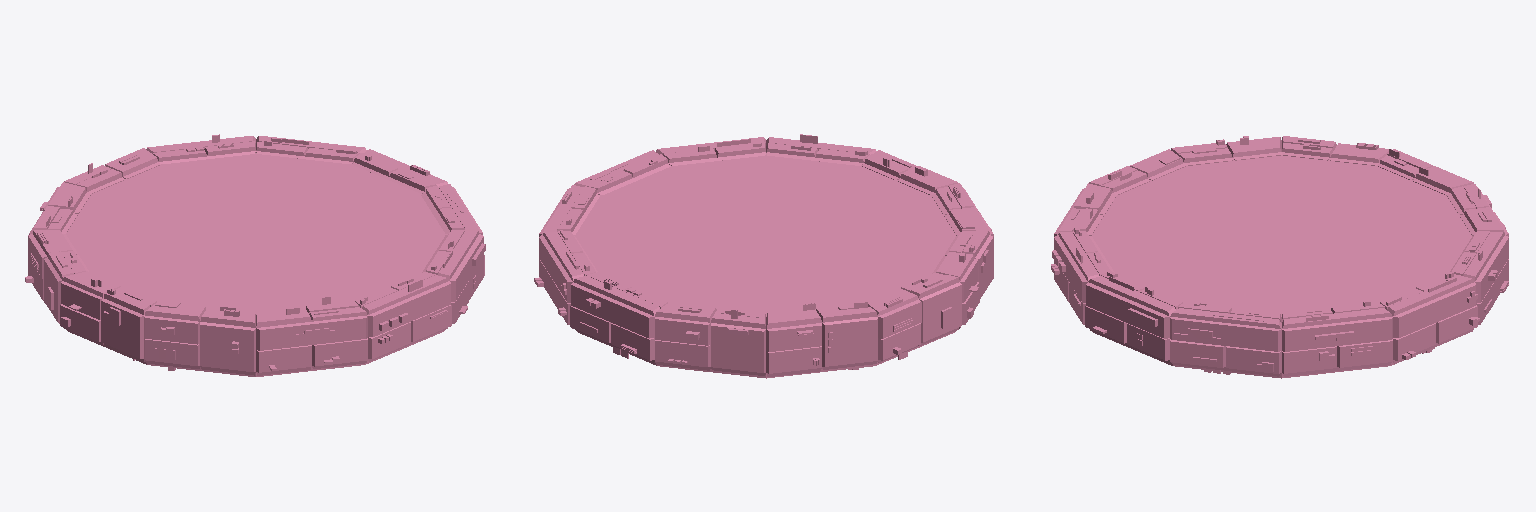
File: platform.obj
3 renders of one model, left to right at view 1: azimuth 30°, elevation 25°; view 2: azimuth 150°, elevation 25°; view 3: azimuth 270°, elevation 25°, orthographic.
Parts seen in each view (by area): view 1: Cylinder001; view 2: Cylinder001; view 3: Cylinder001.
Boxes of the visible parts, x1=… form: Cylinder001: x1=25, y1=134, x2=485, y2=376; Cylinder001: x1=534, y1=134, x2=993, y2=378; Cylinder001: x1=1051, y1=136, x2=1508, y2=378.
Size of the model in its own units: 10.15 by 1.7 by 10.13.